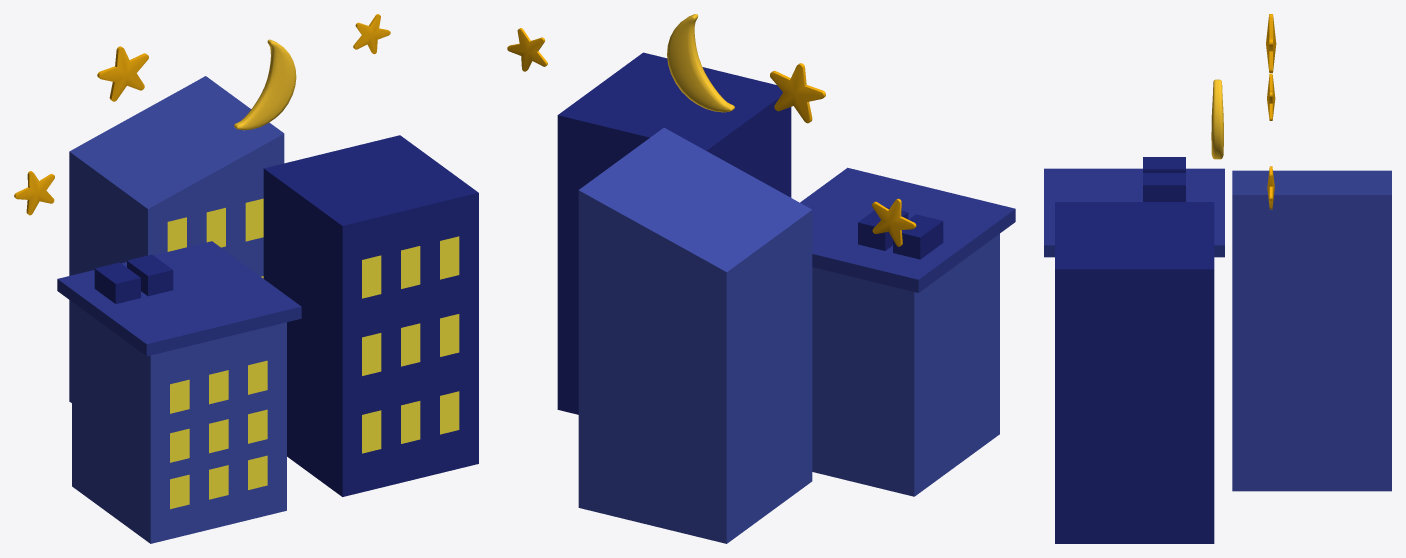
File: night_with_stars.glb
3 views of the same model, side by side, from view 1: azimuth 30°, elevation 25°; view 2: azimuth 150°, elevation 25°; view 3: azimuth 270°, elevation 25° (orthographic). The views are drawn at different scales.
Visible parts, largest first — view 1: Cube.512, Cube.513, Cube.518, Circle.2363, Circle.2362, Circle.2364, Circle.2365; view 2: Cube.518, Cube.513, Cube.512, Circle.2363, Circle.2362, Circle.2364, Circle.2365; view 3: Cube.512, Cube.518, Cube.513, Circle.2363, Circle.2362.
Part boxes in pixels (x1,y1,x2,y2): Cube.512: [263, 135, 478, 496]; Cube.513: [57, 241, 301, 543]; Cube.518: [69, 76, 284, 402]; Circle.2363: [234, 39, 296, 130]; Circle.2362: [97, 46, 148, 101]; Circle.2364: [14, 171, 54, 215]; Circle.2365: [353, 14, 390, 54]; Cube.518: [578, 127, 812, 543]; Cube.513: [800, 167, 1015, 496]; Cube.512: [557, 52, 791, 414]; Circle.2363: [667, 14, 734, 112]; Circle.2362: [770, 63, 825, 123]; Circle.2364: [872, 198, 916, 246]; Circle.2365: [507, 28, 547, 71]; Cube.512: [1055, 202, 1214, 543]; Cube.518: [1232, 170, 1391, 491]; Cube.513: [1044, 157, 1224, 257]; Circle.2363: [1211, 79, 1223, 159]; Circle.2362: [1266, 14, 1276, 72].
Bounding box in the file's own units: 2.2 × 2.24 × 1.74.
Materials: 1 (1 with a texture image).
